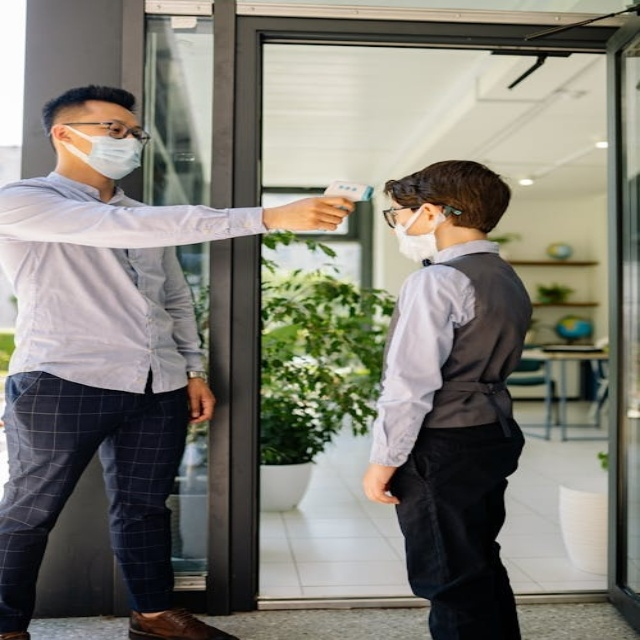Gafas: (383, 203, 458, 228), (60, 122, 151, 142)
Mascara: (60, 125, 146, 178), (391, 207, 445, 265)
Sin_guantes: (271, 195, 361, 233), (360, 462, 402, 507), (184, 378, 216, 428)
